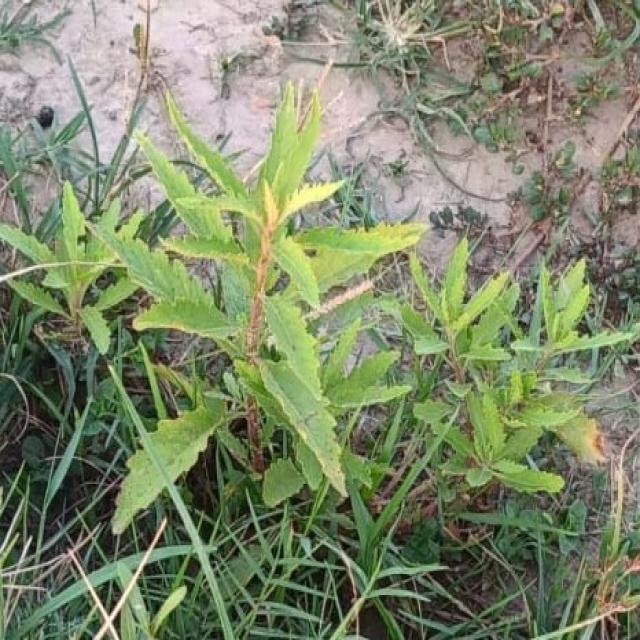weed: (0, 89, 426, 533), (402, 241, 635, 494)
